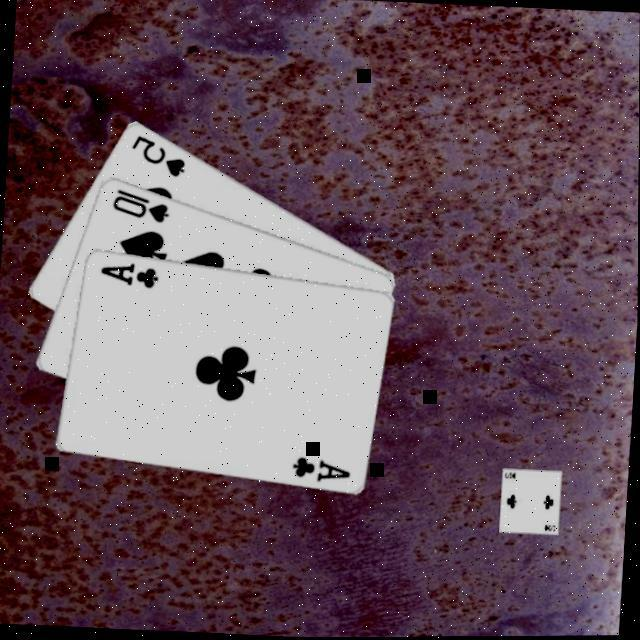10S: (110, 186, 176, 227)
5S: (129, 132, 192, 181)
AC: (99, 258, 163, 292), (291, 454, 356, 486)
